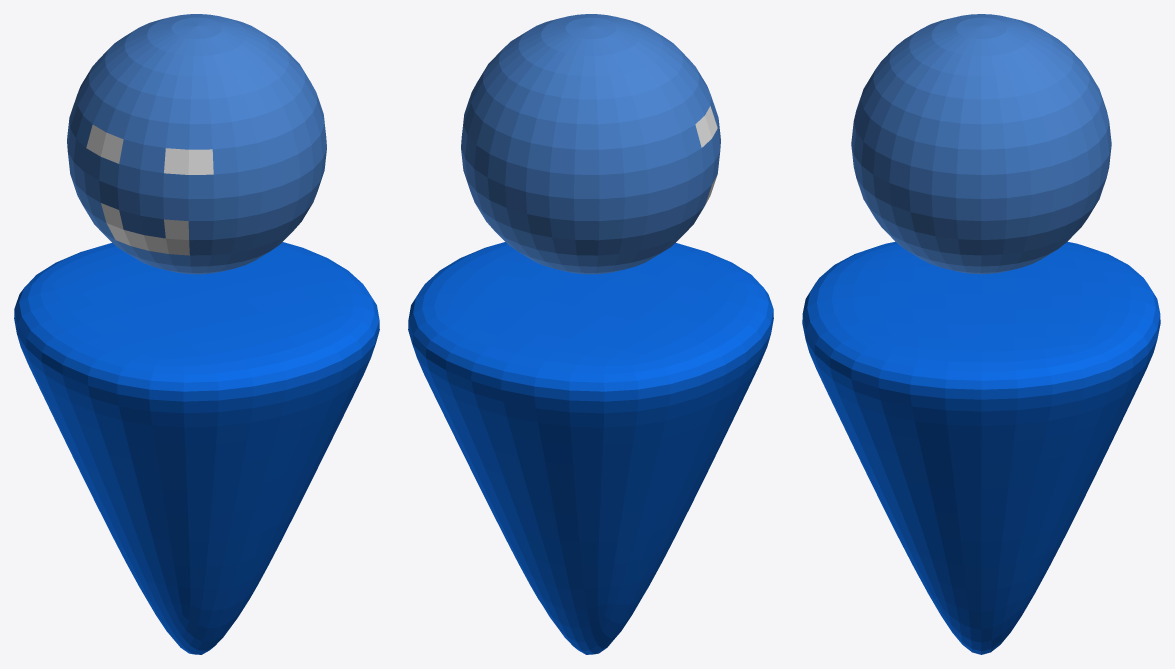
Rendered from Player.fbx.
3 views of the same model, side by side, from view 1: azimuth 30°, elevation 25°; view 2: azimuth 150°, elevation 25°; view 3: azimuth 270°, elevation 25° (orthographic).
Visible parts, largest first — view 1: Cube, Sphere; view 2: Cube, Sphere; view 3: Cube, Sphere.
Boxes of the visible parts, box(x1,y1,x2,y2) form: Cube: box(14, 242, 379, 654); Sphere: box(67, 14, 326, 274); Cube: box(408, 242, 773, 654); Sphere: box(461, 14, 720, 274); Cube: box(802, 241, 1160, 654); Sphere: box(851, 14, 1111, 274).
Size of the model in its own units: 48.58 by 93.94 by 48.58.
